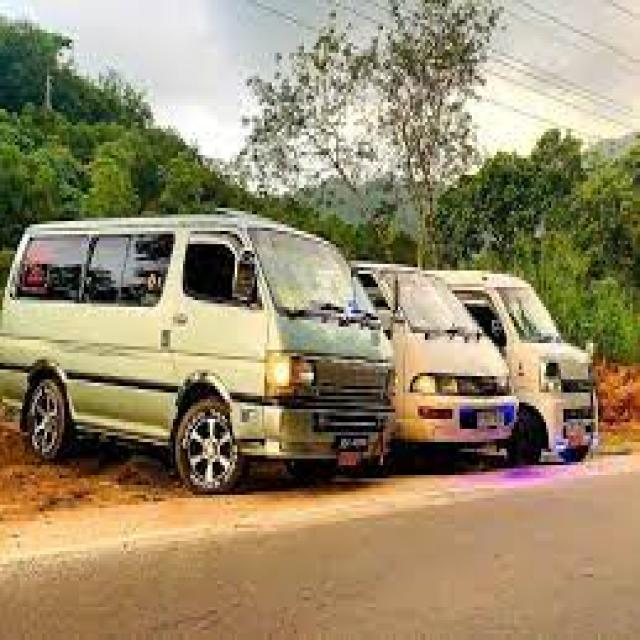van: (0, 211, 487, 492), (432, 271, 596, 459), (353, 264, 516, 452)
